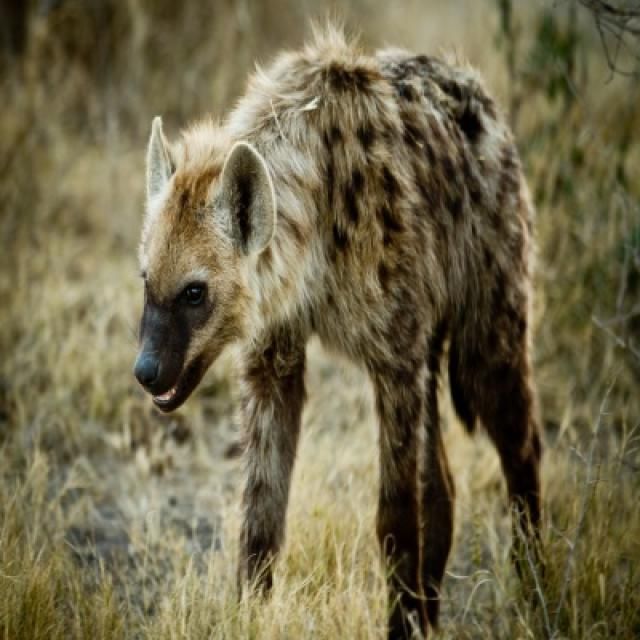hyena: (133, 26, 546, 638)
